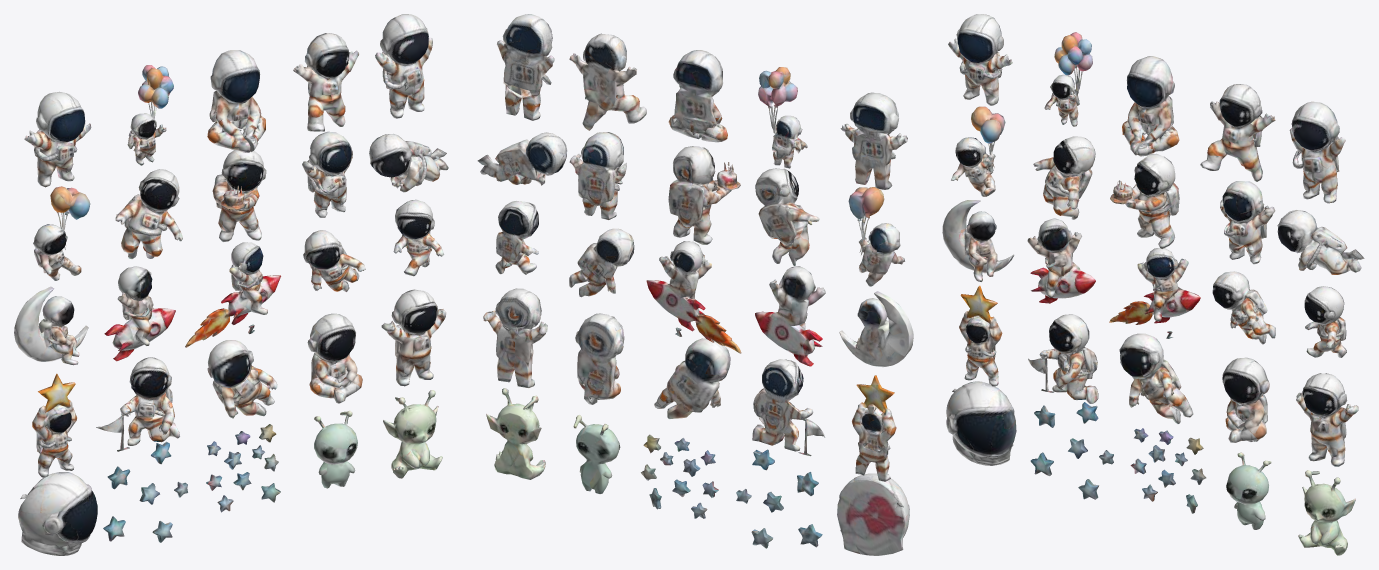
The picture shows the model from 3 angles, left to right: view 1: azimuth 30°, elevation 25°; view 2: azimuth 150°, elevation 25°; view 3: azimuth 330°, elevation 25°; orthographic projection. The views are drawn at different scales.
Visible parts, largest first — view 1: Mesh 2, Mesh 19, Mesh 39, Mesh 3, Mesh 8, Mesh 12, Mesh 33, Mesh 1, Mesh 40, Mesh 36, Mesh 28, Mesh 18 (+13 smaller); view 2: Mesh 2, Mesh 39, Mesh 21, Mesh 33, Mesh 40, Mesh 19, Mesh 3, Mesh 18, Mesh 8, Mesh 28, Mesh 10, Mesh 12 (+13 smaller); view 3: Mesh 2, Mesh 19, Mesh 39, Mesh 33, Mesh 21, Mesh 28, Mesh 8, Mesh 3, Mesh 40, Mesh 18, Mesh 10, Mesh 36 (+13 smaller).
Boxes of the visible parts, x1,y1,x2,y2 form: Mesh 2: [18, 472, 97, 555]; Mesh 19: [207, 50, 265, 152]; Mesh 39: [375, 14, 432, 118]; Mesh 3: [24, 91, 91, 187]; Mesh 8: [96, 357, 179, 451]; Mesh 12: [115, 169, 182, 258]; Mesh 33: [293, 33, 358, 131]; Mesh 1: [14, 286, 88, 365]; Mesh 40: [381, 289, 446, 386]; Mesh 36: [307, 313, 362, 403]; Mesh 28: [207, 324, 277, 418]; Mesh 18: [185, 242, 280, 347]; Mesh 2: [837, 473, 909, 555]; Mesh 39: [497, 14, 554, 120]; Mesh 21: [668, 146, 740, 244]; Mesh 33: [569, 33, 646, 130]; Mesh 40: [483, 288, 547, 388]; Mesh 19: [668, 50, 727, 142]; Mesh 3: [840, 92, 907, 189]; Mesh 18: [646, 241, 741, 353]; Mesh 8: [752, 359, 825, 456]; Mesh 28: [654, 327, 730, 419]; Mesh 10: [755, 266, 825, 366]; Mesh 12: [755, 168, 819, 265]; Mesh 2: [946, 381, 1016, 465]; Mesh 19: [1122, 56, 1179, 156]; Mesh 39: [1289, 101, 1345, 203]; Mesh 33: [1200, 84, 1275, 181]; Mesh 21: [1110, 153, 1179, 248]; Mesh 28: [1119, 331, 1193, 423]; Mesh 8: [1028, 314, 1098, 403]; Mesh 3: [948, 14, 1012, 105]; Mesh 40: [1296, 373, 1358, 466]; Mesh 18: [1109, 248, 1200, 324]; Mesh 10: [1027, 218, 1095, 303]; Mesh 36: [1222, 357, 1269, 442].
Bounding box in the file's own units: 1.79 × 1.9 × 0.2067.
Materials: 25 (25 with a texture image).
